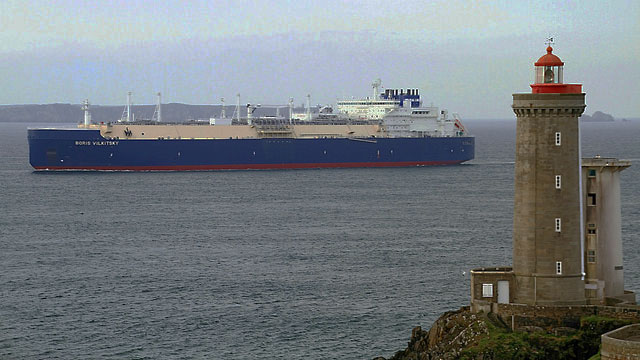LNG_ship: (26, 81, 479, 170)
